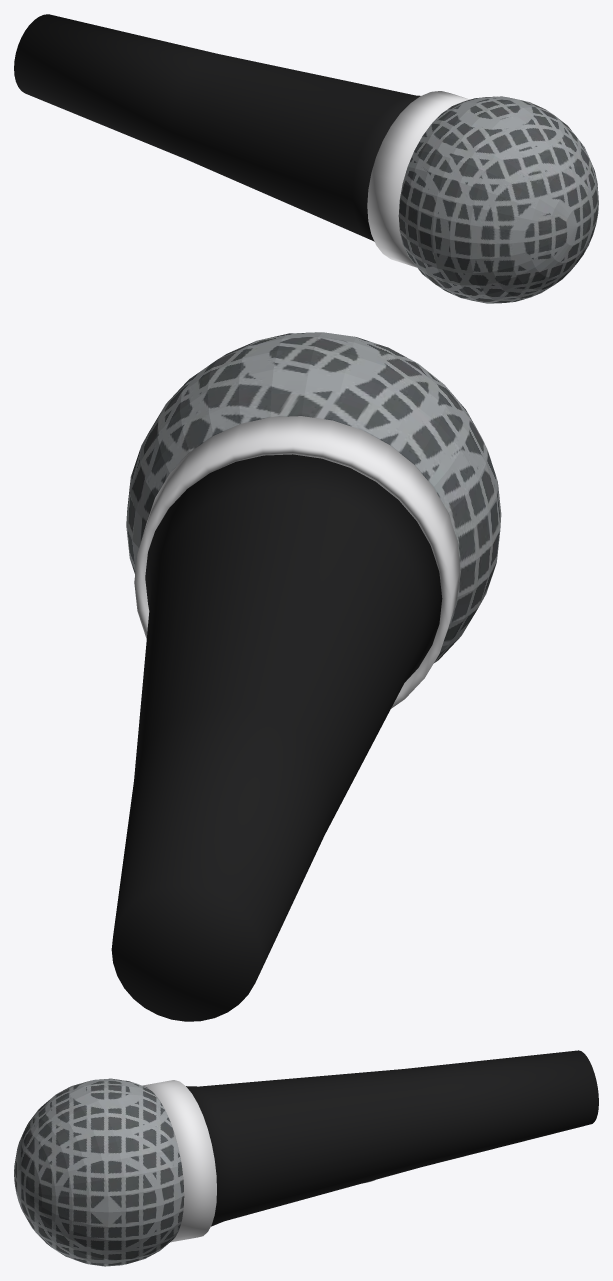
File: vocal.glb
The picture shows the model from 3 angles, top to bottom: view 1: azimuth 30°, elevation 25°; view 2: azimuth 150°, elevation 25°; view 3: azimuth 270°, elevation 25°; orthographic projection. The views are drawn at different scales.
Visible parts, largest first — view 1: mic_black, mesh_grille, chrome; view 2: mic_black, mesh_grille, chrome; view 3: mic_black, mesh_grille, chrome.
Part boxes in pixels (box(x1,y1,x2,y2)): mic_black: box(14, 14, 420, 241); mesh_grille: box(398, 96, 598, 303); chrome: box(367, 91, 469, 267); mic_black: box(111, 454, 442, 1021); mesh_grille: box(126, 332, 501, 662); chrome: box(134, 416, 460, 708); mic_black: box(186, 1050, 598, 1226); mesh_grille: box(14, 1078, 184, 1266); chrome: box(142, 1080, 374, 1242).
Size of the model in its own units: 0.1053 by 0.06 by 0.1866.
3 materials, 1 textured.
